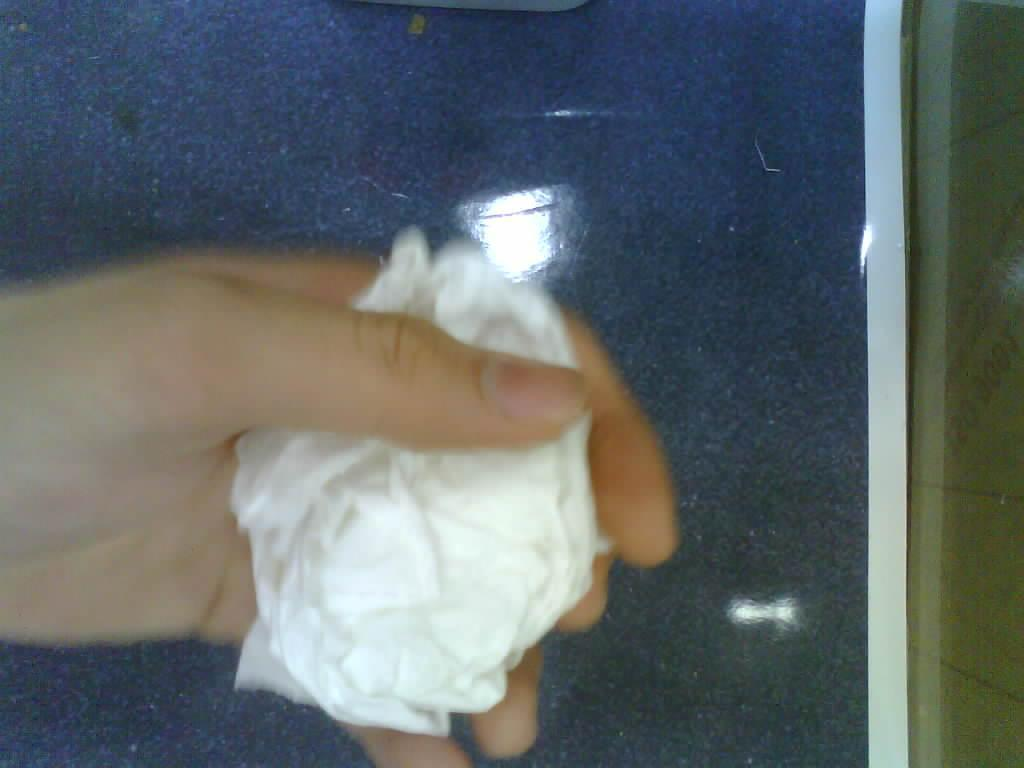paper: (228, 227, 614, 740)
